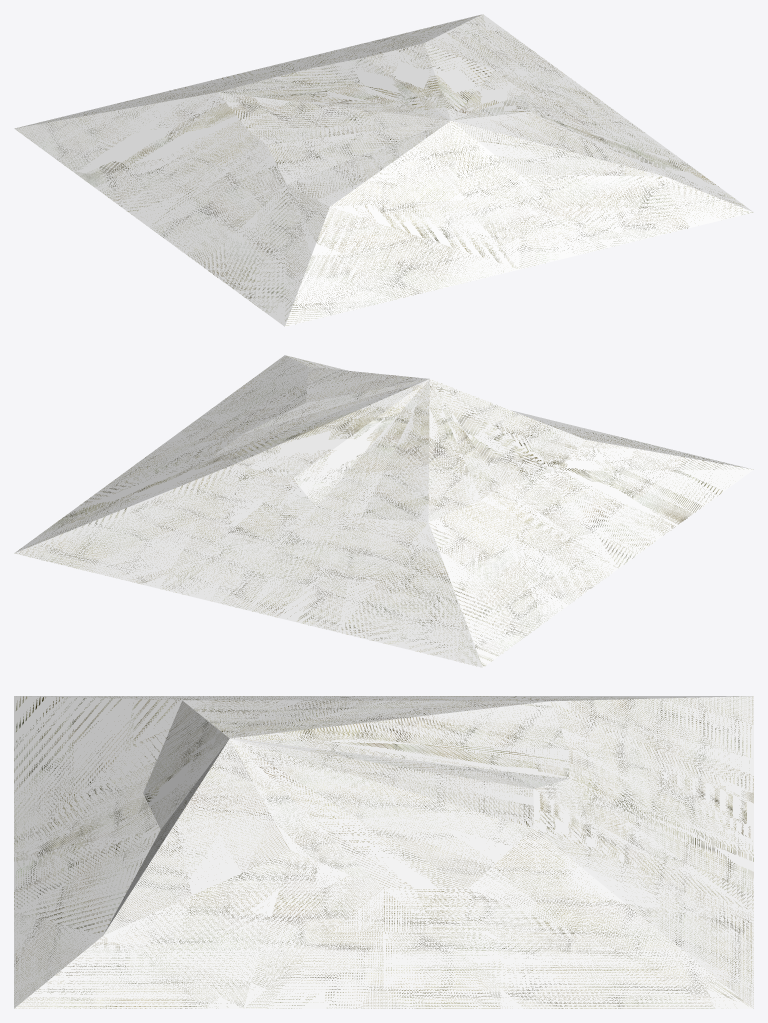
The model's file is escombro.fbx.
3 views of the same model, one above another, from view 1: azimuth 30°, elevation 25°; view 2: azimuth 150°, elevation 25°; view 3: azimuth 270°, elevation 25° (orthographic). The views are drawn at different scales.
Visible parts, largest first — view 1: Model; view 2: Model; view 3: Model.
Boxes of the visible parts, <box> form: Model: <box>14,14,753,326</box>; Model: <box>14,355,753,667</box>; Model: <box>14,696,753,1008</box>.
Size of the model in its own units: 1.46 by 0.2637 by 1.46.
